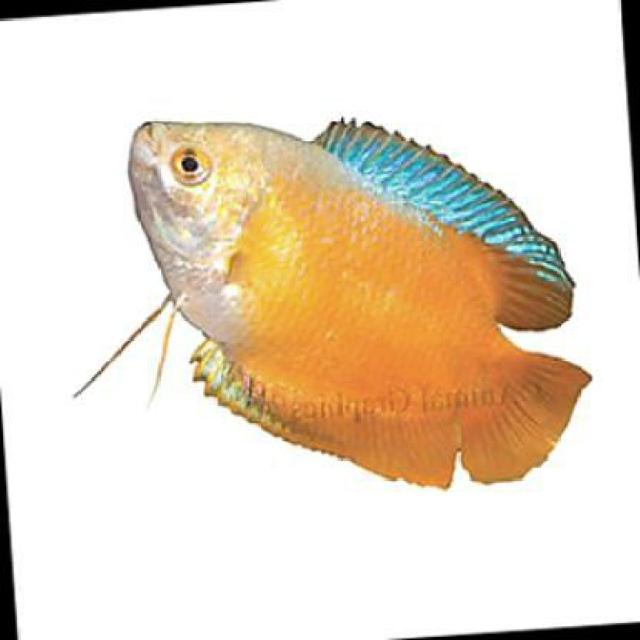Gourami: (121, 95, 599, 493)
